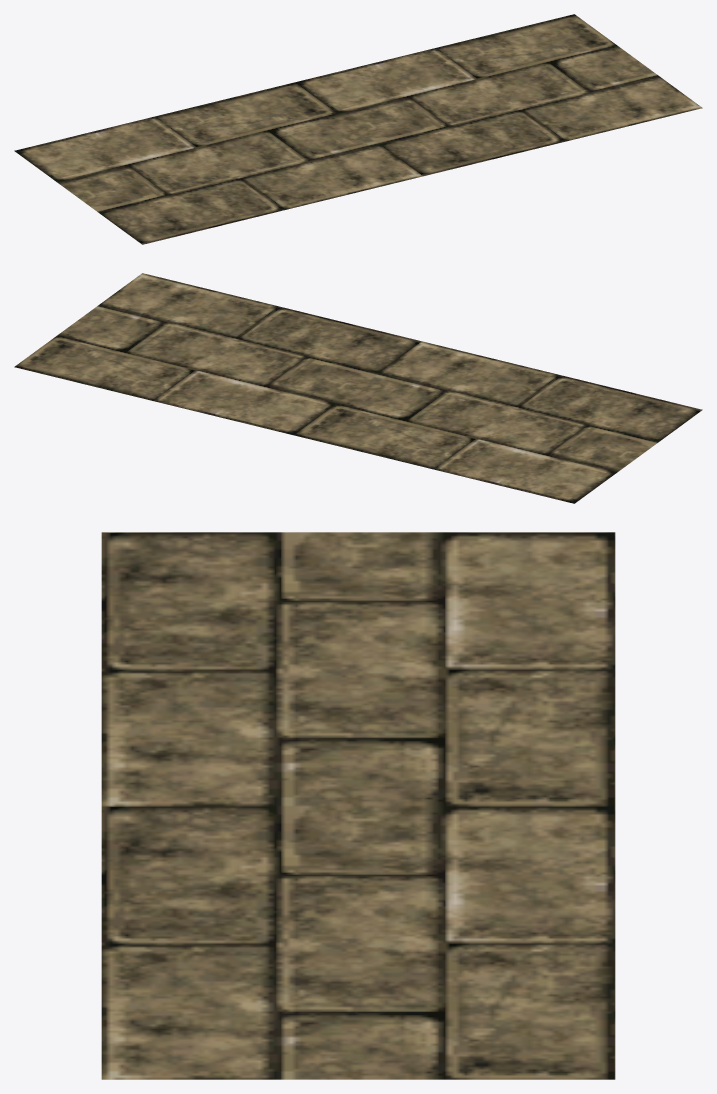
Rendered from OVERHILL_A_01_LINE210.fbx.
3 views of the same model, one above another, from view 1: azimuth 30°, elevation 25°; view 2: azimuth 150°, elevation 25°; view 3: azimuth 270°, elevation 25° (orthographic). The views are drawn at different scales.
Visible parts, largest first — view 1: OVERHILL_A_01_LINE210; view 2: OVERHILL_A_01_LINE210; view 3: OVERHILL_A_01_LINE210.
Boxes of the visible parts, <box> form: OVERHILL_A_01_LINE210: <box>14,14,702,244</box>; OVERHILL_A_01_LINE210: <box>14,273,702,503</box>; OVERHILL_A_01_LINE210: <box>101,532,615,1079</box>.
Size of the model in its own units: 51147 by 0.00331 by 20305.
1 material, 1 textured.
